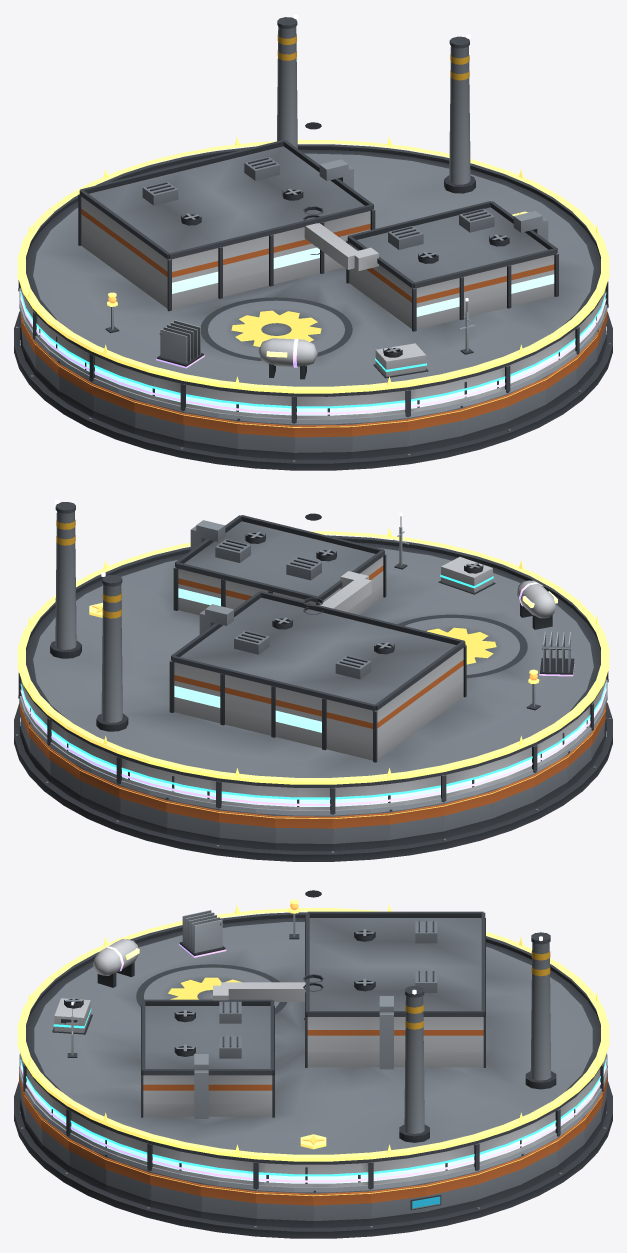
The model's file is electronics_fab_l.glb.
3 views of the same model, one above another, from view 1: azimuth 30°, elevation 25°; view 2: azimuth 150°, elevation 25°; view 3: azimuth 270°, elevation 25° (orthographic).
Parts seen in each view (by area): view 1: Roof, Base, L4, Wall_20, Wall_21, Wall_22, Wall_19, Wall_23, Wall_18, Wall_24, Wall_17, L3 (+16 smaller); view 2: Roof, Base, L4, Wall_11, Wall_10, Wall_09, Wall_12, Wall_08, Wall_13, Wall_07, Wall_14, L3 (+21 smaller); view 3: Roof, Base, L4, Wall_00, Wall_31, Wall_30, Wall_01, Wall_29, Wall_02, Wall_28, Wall_03, Wall_04 (+24 smaller).
Boxes of the visible parts, left/top/right/bottom form: Roof: left=24, top=14, right=602, bottom=396; Base: left=14, top=311, right=612, bottom=470; L4: left=156, top=320, right=317, bottom=379; Wall_20: left=237, top=418, right=294, bottom=459; Wall_21: left=294, top=423, right=351, bottom=459; Wall_22: left=351, top=418, right=408, bottom=458; Wall_19: left=183, top=412, right=237, bottom=455; Wall_23: left=407, top=408, right=460, bottom=453; Wall_18: left=134, top=399, right=183, bottom=446; Wall_24: left=460, top=394, right=507, bottom=442; Wall_17: left=92, top=383, right=134, bottom=433; L3: left=310, top=253, right=428, bottom=378; Roof: left=24, top=499, right=602, bottom=787; Base: left=14, top=702, right=612, bottom=861; L4: left=517, top=580, right=574, bottom=676; Wall_11: left=332, top=811, right=389, bottom=850; Wall_10: left=275, top=814, right=332, bottom=850; Wall_09: left=218, top=809, right=275, bottom=849; Wall_12: left=389, top=803, right=443, bottom=846; Wall_08: left=166, top=797, right=219, bottom=844; Wall_13: left=443, top=790, right=492, bottom=838; Wall_07: left=119, top=785, right=166, bottom=834; Wall_14: left=492, top=774, right=534, bottom=825; L3: left=438, top=557, right=495, bottom=594; Roof: left=24, top=890, right=602, bottom=1164; Base: left=14, top=1081, right=612, bottom=1238; L4: left=93, top=910, right=226, bottom=987; Wall_00: left=313, top=1190, right=370, bottom=1227; Wall_31: left=256, top=1190, right=313, bottom=1227; Wall_30: left=200, top=1183, right=256, bottom=1225; Wall_01: left=370, top=1183, right=426, bottom=1225; Wall_29: left=150, top=1172, right=201, bottom=1218; Wall_02: left=425, top=1172, right=476, bottom=1218; Wall_28: left=105, top=1154, right=150, bottom=1206; Wall_03: left=476, top=1156, right=521, bottom=1206; Wall_04: left=520, top=1138, right=558, bottom=1190.
Bounding box in the file's own units: 18.96 × 7.79 × 18.96.
